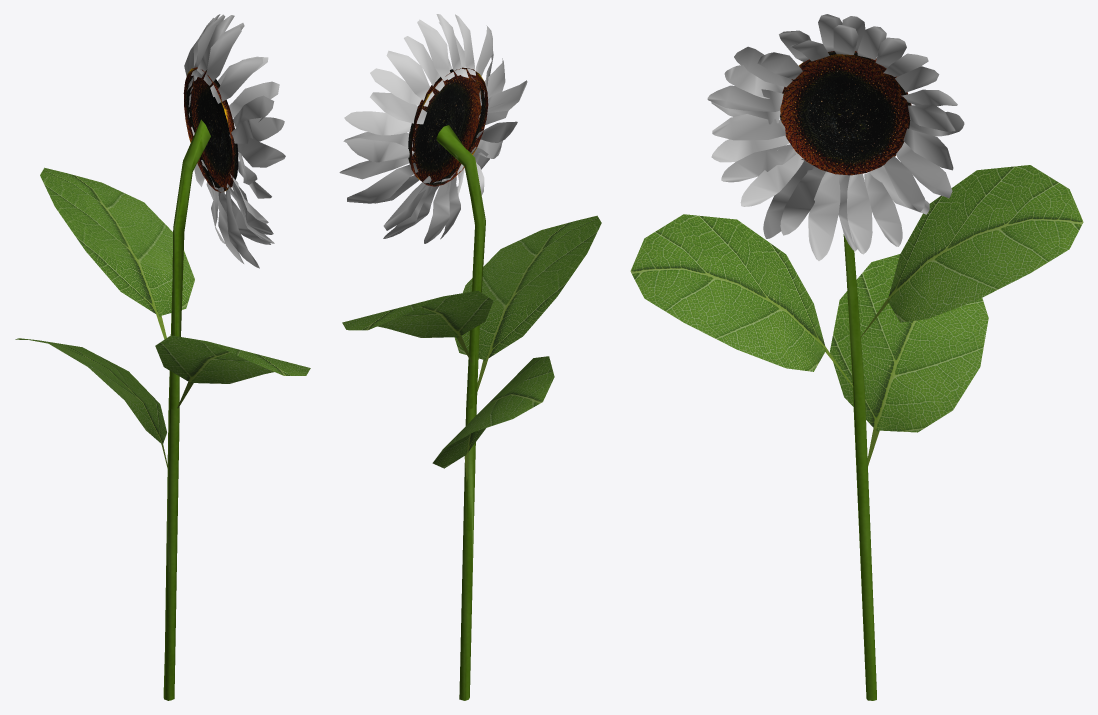
File: Sunflower_Background.fbx
The picture shows the model from 3 angles, left to right: view 1: azimuth 30°, elevation 25°; view 2: azimuth 150°, elevation 25°; view 3: azimuth 270°, elevation 25°; orthographic projection. The views are drawn at different scales.
Parts seen in each view (by area): view 1: pasted__Leaf3, pasted__Stalk, pasted__Leaf1, pasted__Bud, pasted__Leaf2, pasted__Plane733, pasted__Plane745, pasted__Plane746, pasted__Plane1013, pasted__Plane765, pasted__Plane729, pasted__Plane734 (+4 smaller); view 2: pasted__Leaf1, pasted__Stalk, pasted__Bud, pasted__Leaf3, pasted__Leaf2, pasted__Plane771, pasted__Plane756, pasted__Plane772, pasted__Plane769, pasted__Plane770, pasted__Plane741, pasted__Plane726 (+13 smaller); view 3: pasted__Leaf1, pasted__Leaf3, pasted__Leaf2, pasted__Bud, pasted__Stalk, pasted__Plane727, pasted__Plane738, pasted__Plane728, pasted__Plane725, pasted__Plane715, pasted__Plane762, pasted__Plane730 (+11 smaller).
Part boxes in pixels (x1,y1,x2,y2): pasted__Leaf3: (40,167,194,339); pasted__Stalk: (163,119,210,700); pasted__Leaf1: (155,335,310,408); pasted__Bud: (183,67,238,192); pasted__Leaf2: (15,338,167,467); pasted__Plane733: (229,117,284,143); pasted__Plane745: (214,57,263,103); pasted__Plane746: (203,27,241,85); pasted__Plane1013: (237,137,285,167); pasted__Plane765: (229,81,279,117); pasted__Plane729: (226,189,259,268); pasted__Plane734: (233,95,274,127); pasted__Leaf1: (454,215,601,391); pasted__Stalk: (436,125,485,700); pasted__Bud: (408,67,488,186); pasted__Leaf3: (342,290,493,362); pasted__Leaf2: (432,356,554,481); pasted__Plane771: (344,111,415,135); pasted__Plane756: (347,163,418,203); pasted__Plane772: (346,138,414,162); pasted__Plane769: (386,50,434,103); pasted__Plane770: (370,92,426,124); pasted__Plane741: (417,19,451,80); pasted__Plane726: (424,178,450,243); pasted__Leaf1: (630,214,853,386); pasted__Leaf3: (861,165,1083,336); pasted__Leaf2: (830,254,988,465); pasted__Bud: (780,51,911,175); pasted__Stalk: (843,234,876,700); pasted__Plane727: (808,171,840,260); pasted__Plane738: (847,173,872,254); pasted__Plane728: (780,166,825,235); pasted__Plane725: (864,172,902,246); pasted__Plane715: (740,150,803,206); pasted__Plane762: (712,114,785,140); pasted__Plane730: (721,144,795,182).
Size of the model in its own units: 9.18 by 28.51 by 16.46.
